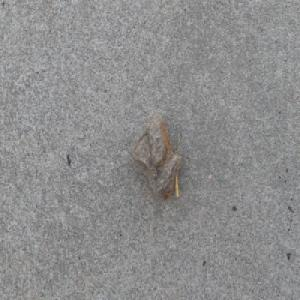Rock: (127, 110, 180, 201)
